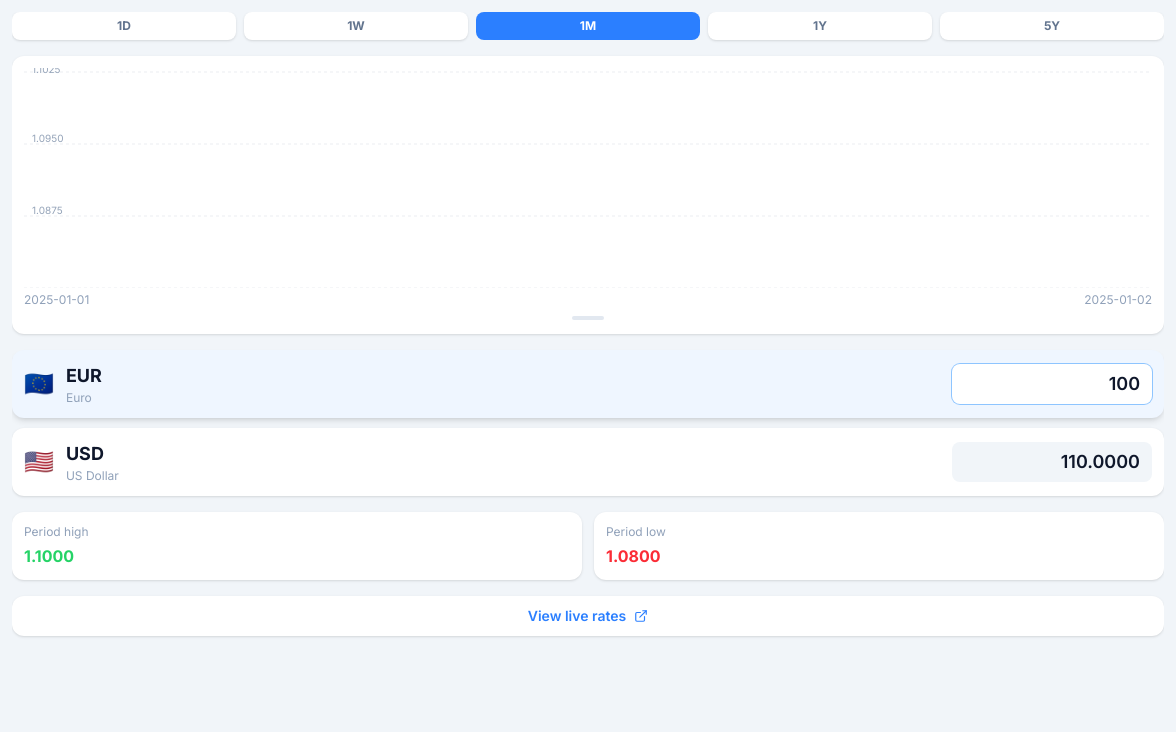
Test case: RateChart history fetch UX › re-fetches data when a different range button is clicked
Expected: the text "Period high" is shown, [24,524,88,539]
Click the button named "1 week": click(356, 26) [244,12,468,40]
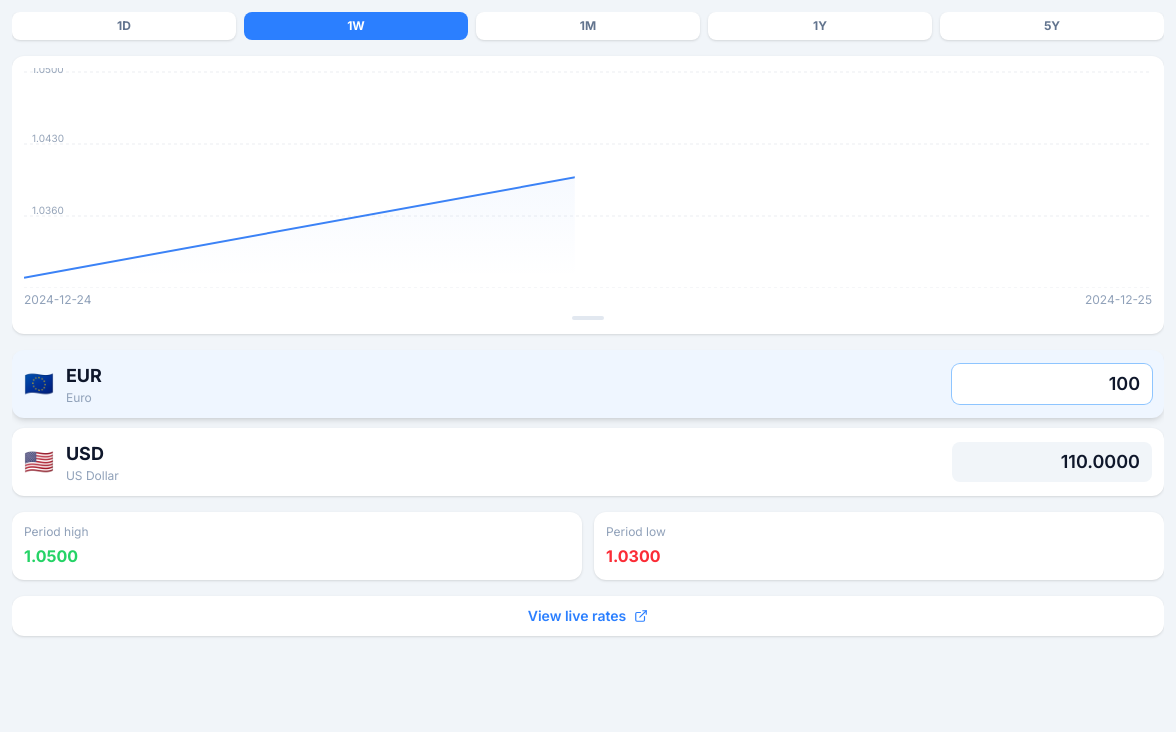
Now the text "1.0500" is shown, box [24,546,78,566]
Now the text "1.0300" is shown, box [606,546,660,566]
